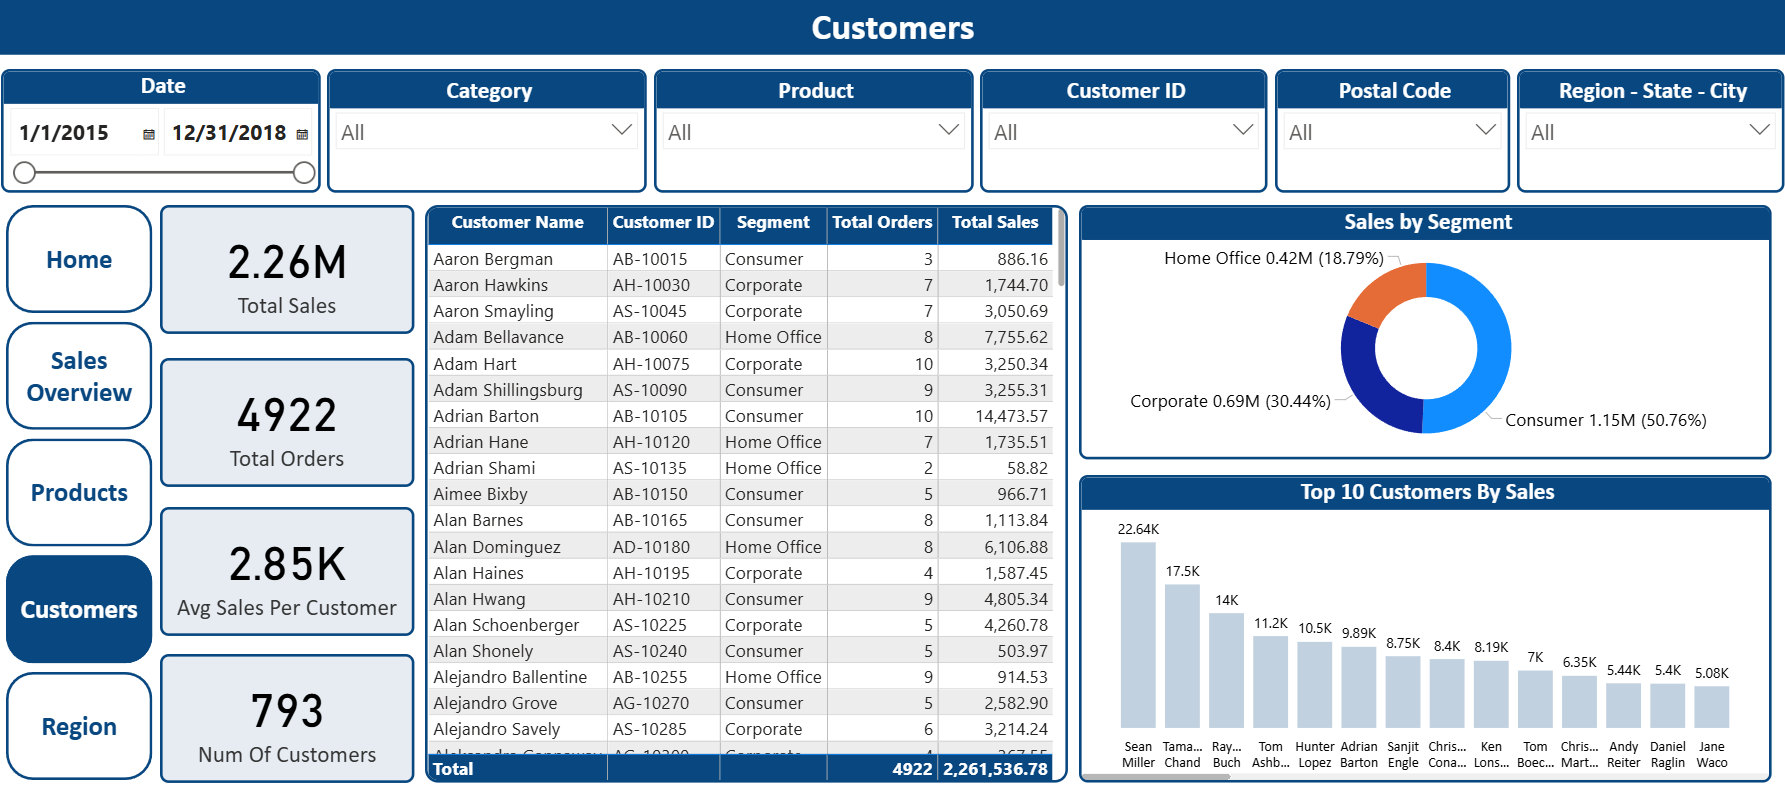

This screenshot's page, from the dashboard's own definition file:
{"tool":"powerbi","page":{"name":"Customers","canvas":[2050,920],"ordinal":3},"visuals":[{"type":"textbox","box":[0,0,2050,64.5],"z":0},{"type":"slicer","title":"Category","fields":{"Values":["Dim Product.Category"]},"box":[375,80,366.7,141.7],"z":1000},{"type":"slicer","title":"Product","fields":{"Values":["Dim Product.Product Name"]},"box":[750.7,80,366.7,141.7],"z":2000},{"type":"slicer","title":"Customer ID","fields":{"Values":["Dim Customer.Customer ID"]},"box":[1125,80,330,141.7],"z":3000},{"type":"slicer","title":"Postal Code","fields":{"Values":["Dim Region.Postal Code"]},"box":[1463.3,80,270,141.7],"z":4000},{"type":"slicer","title":"Region - State - City","fields":{"Values":["Dim Region.Region"]},"box":[1741.7,80,306.7,141.7],"z":5000},{"type":"card","fields":{"Values":["Measure.Total Sales"]},"box":[183.3,236.6,291.7,148.3],"z":6000},{"type":"card","fields":{"Values":["Measure.Num Of Orders"]},"box":[183.3,411.6,291.7,148.3],"z":7000},{"type":"columnChart","title":"Top 10 Customers By Sales","fields":{"Category":["Dim Customer.Customer Name"],"Y":["Measure.Total Sales"]},"box":[1238.3,546.7,795,353.3],"z":8000},{"type":"card","fields":{"Values":["Measure.Avg Sales Per Customer"]},"box":[183.3,583.3,291.7,148.3],"z":9000},{"type":"card","fields":{"Values":["Measure.Num Of Customers"]},"box":[183.3,751.7,291.7,148.3],"z":10000},{"type":"tableEx","fields":{"Values":["Dim Customer.Customer Name","Dim Customer.Customer ID","Dim Customer.Segment","Measure.Total Orders","Measure.Total Sales"]},"box":[488.3,236.7,738.3,663.3],"z":11000},{"type":"donutChart","title":"Sales by Segment","fields":{"Y":["Measure.Total Sales"],"Category":["Dim Customer.Segment"]},"box":[1238.3,236.7,795,291.7],"z":12000},{"type":"pageNavigator","box":[6.7,236.7,168.3,663.3],"z":13000},{"type":"slicer","title":"Date","fields":{"Values":["Date.Date"]},"box":[1.7,80,366.7,141.7],"z":14000}]}

Visuals, with their boxes in screenshot pixels (x1, y1, x2, y2), scaled from the page's 2050x920 canvas onto the 1785x798 screenshot:
textbox: x1=0, y1=0, x2=1784, y2=56
"Category" slicer: x1=327, y1=69, x2=646, y2=192
"Product" slicer: x1=654, y1=69, x2=973, y2=192
"Customer ID" slicer: x1=980, y1=69, x2=1267, y2=192
"Postal Code" slicer: x1=1274, y1=69, x2=1509, y2=192
"Region - State - City" slicer: x1=1517, y1=69, x2=1784, y2=192
card - Measure.Total Sales: x1=160, y1=205, x2=414, y2=334
card - Measure.Num Of Orders: x1=160, y1=357, x2=414, y2=486
"Top 10 Customers By Sales" columnChart: x1=1078, y1=474, x2=1770, y2=781
card - Measure.Avg Sales Per Customer: x1=160, y1=506, x2=414, y2=635
card - Measure.Num Of Customers: x1=160, y1=652, x2=414, y2=781
tableEx - Dim Customer.Customer Name x Dim Customer.Customer ID: x1=425, y1=205, x2=1068, y2=781
"Sales by Segment" donutChart: x1=1078, y1=205, x2=1770, y2=458
pageNavigator: x1=6, y1=205, x2=152, y2=781
"Date" slicer: x1=1, y1=69, x2=321, y2=192
